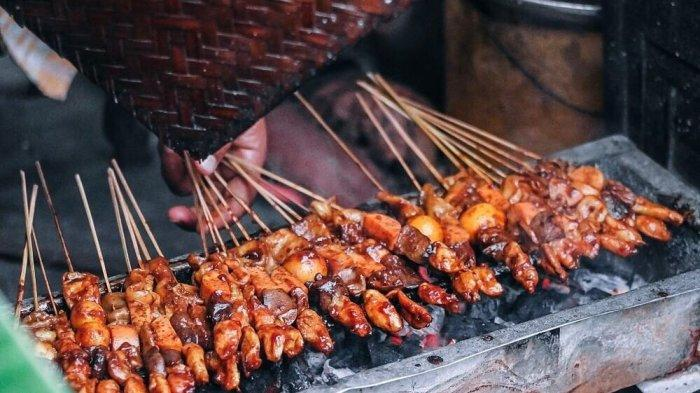sate: (16, 137, 694, 392)
